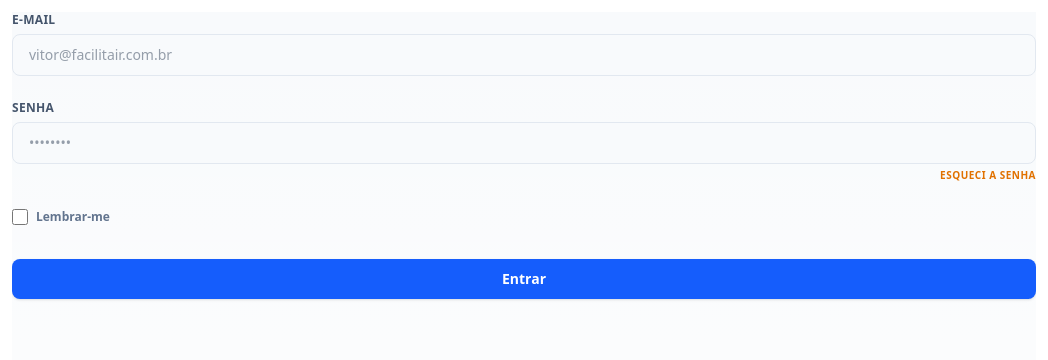
Test: LoginForm › deve exibir erro para formato de e-mail inválido
In the field labelled "E-mail": x=524, y=55 [12, 34, 1036, 76], type "email-invalido"
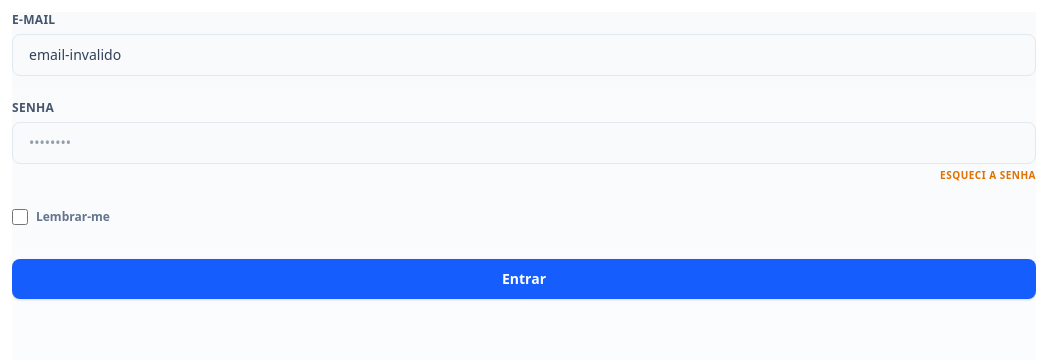
Click the button "Entrar": x=524, y=279 [12, 259, 1036, 299]
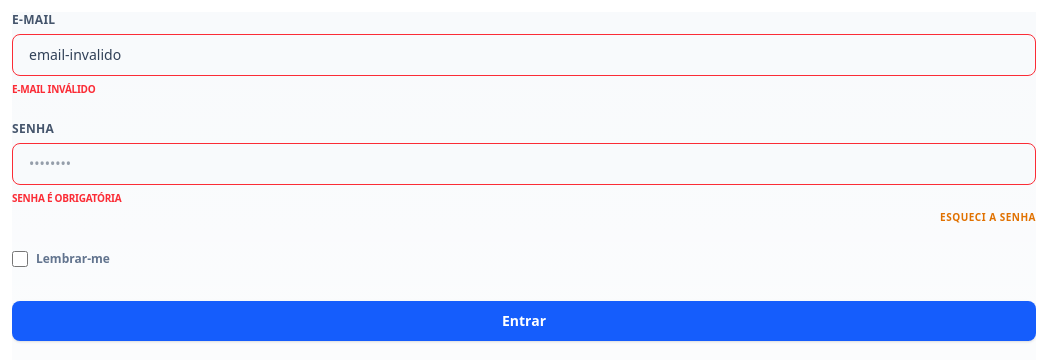
Result: the text "E-mail inválido" is shown at [12, 82, 96, 96]
